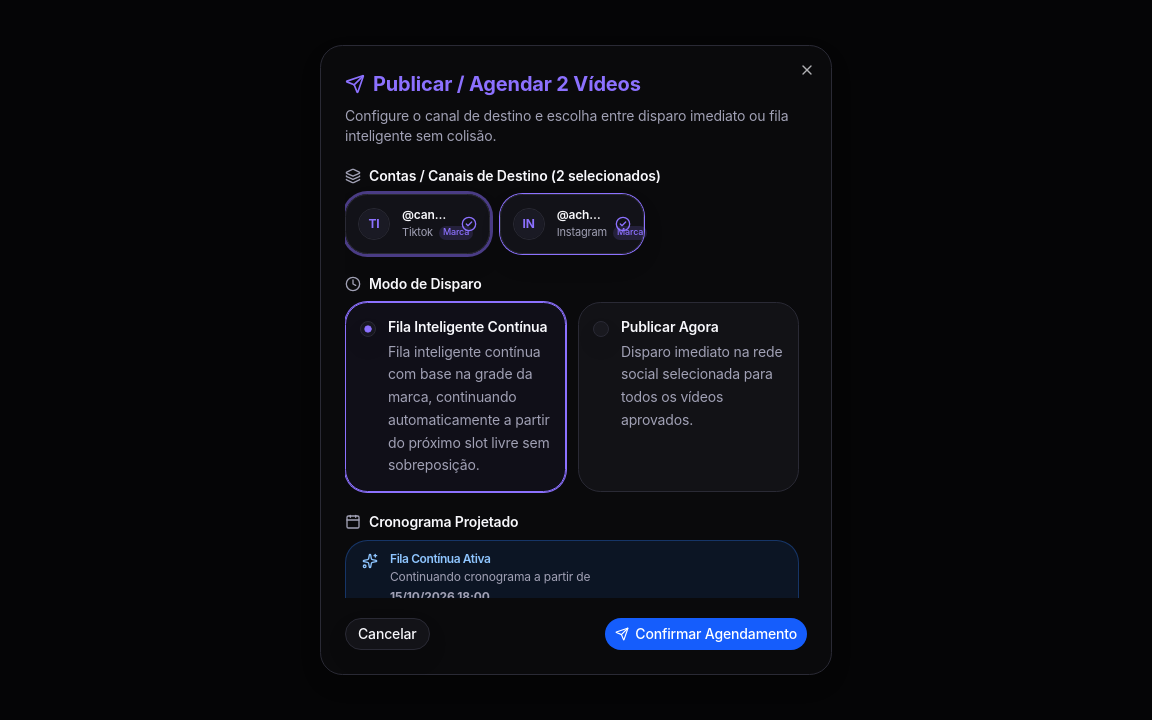
Test case: ViralPublishDialog › allows switching to Publicar Agora mode
The width and height of the screenshot is (1152, 720).
Click the text "Publicar Agora". click: (670,326)
box: [621, 318, 719, 335]
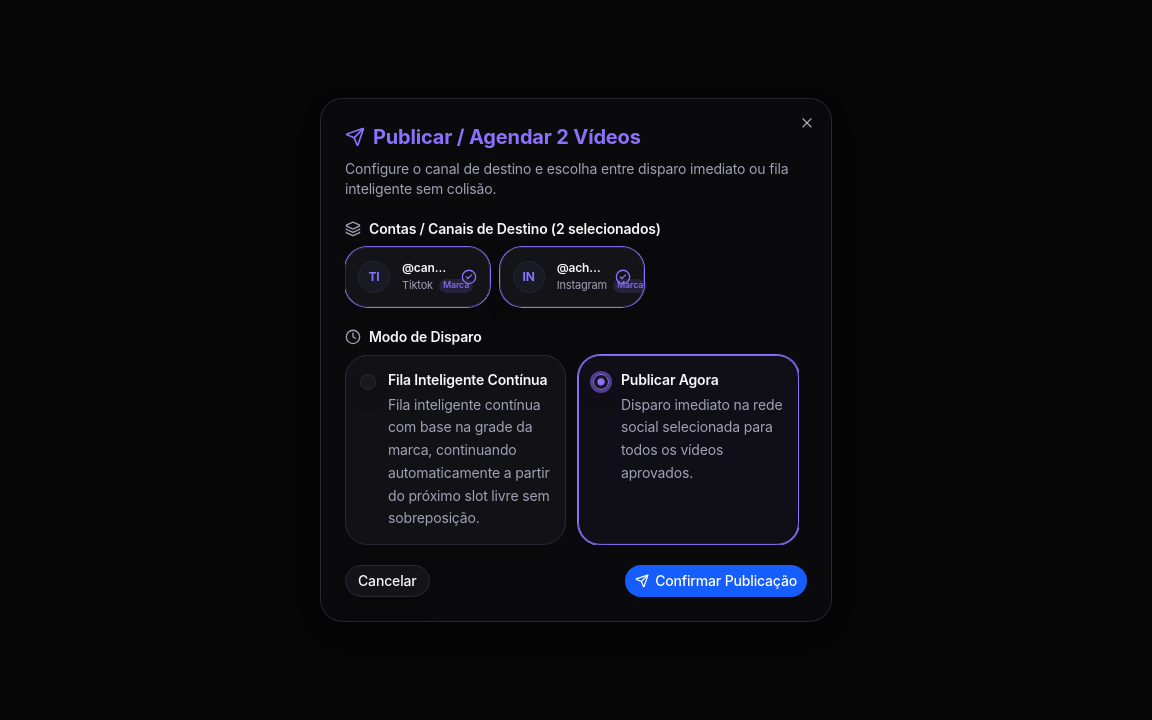
Expected: the button "Confirmar Publicação" is shown, [625, 565, 807, 597]
